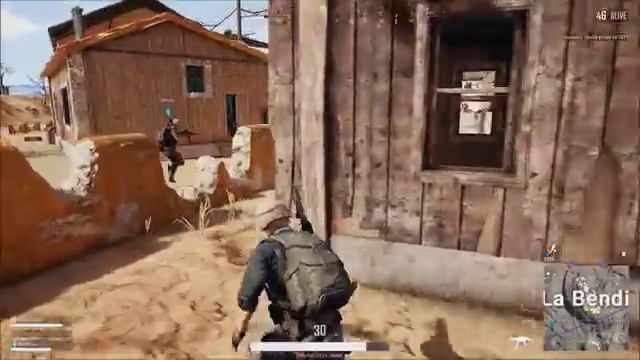Player: (206, 191, 399, 322), (146, 108, 197, 193)
